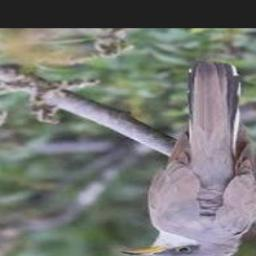Cuckoo: (122, 62, 256, 256)
